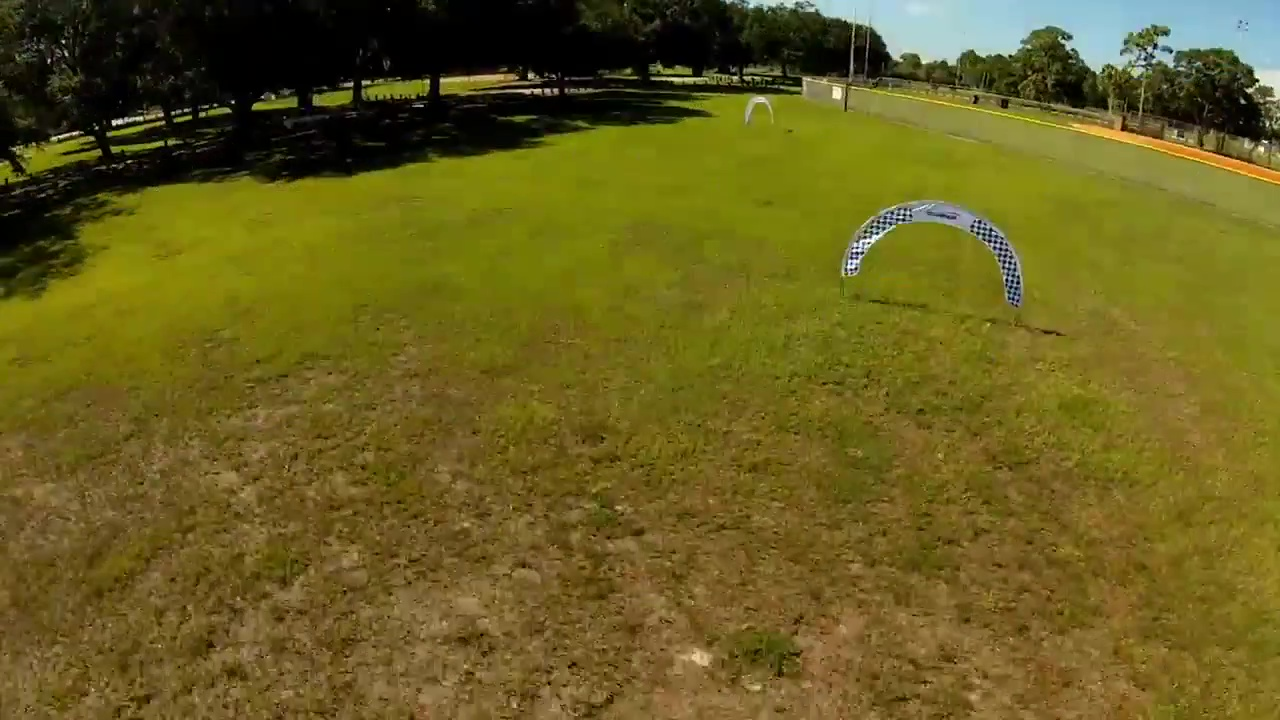gate: (836, 201, 1023, 307)
